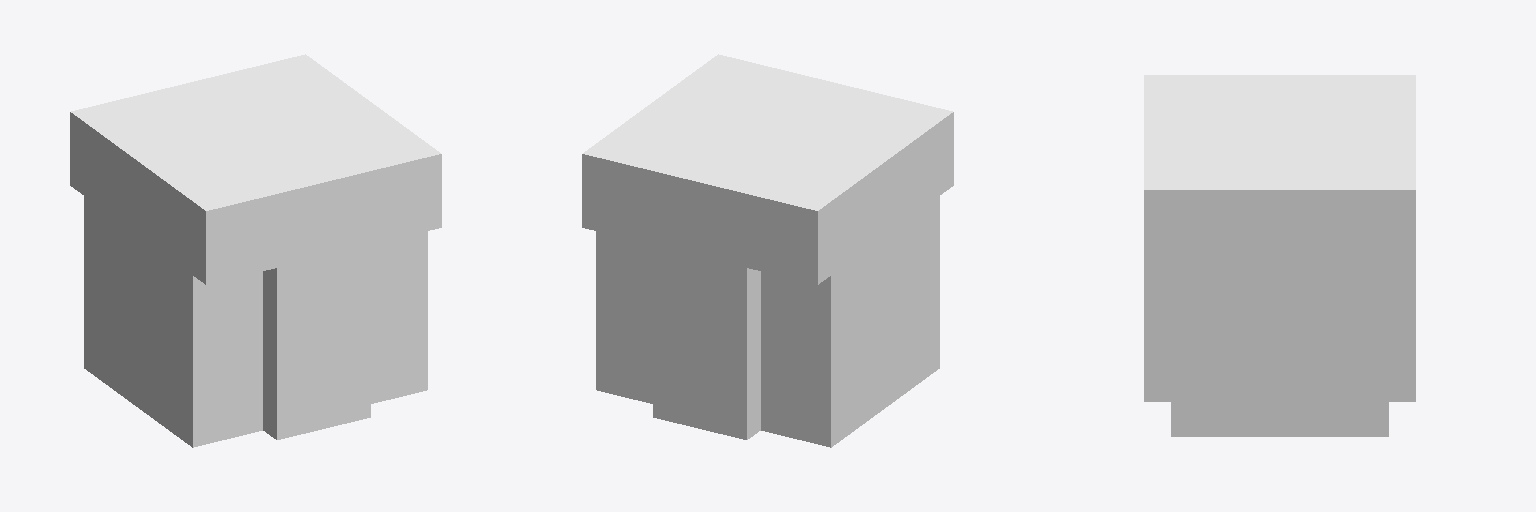
File: sundukIceBullet.obj
3 views of the same model, side by side, from view 1: azimuth 30°, elevation 25°; view 2: azimuth 150°, elevation 25°; view 3: azimuth 270°, elevation 25° (orthographic).
Visible parts, largest first — view 1: sundukIceBullet; view 2: sundukIceBullet; view 3: sundukIceBullet.
Boxes of the visible parts, x1=… form: sundukIceBullet: x1=70, y1=54, x2=441, y2=447; sundukIceBullet: x1=582, y1=54, x2=953, y2=447; sundukIceBullet: x1=1144, y1=75, x2=1415, y2=436.
Size of the model in its own units: 10 by 10 by 10.